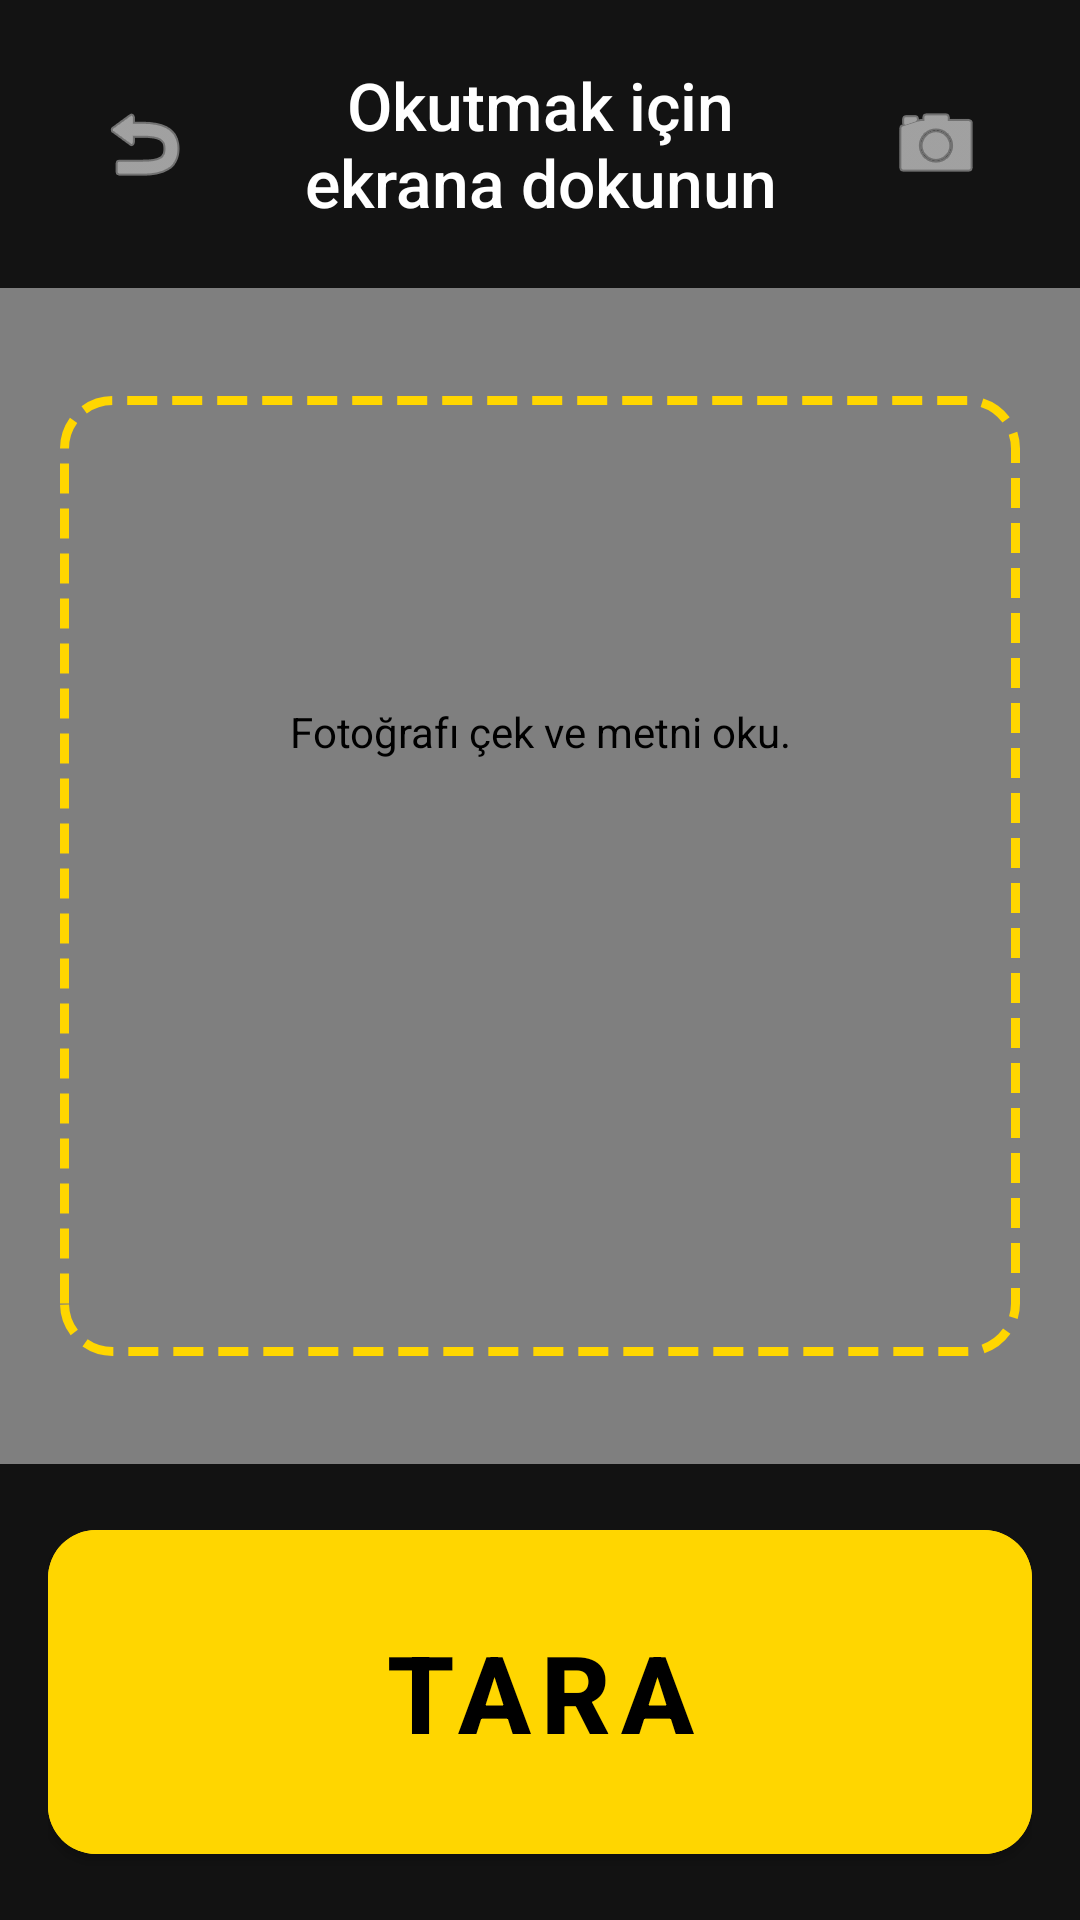

Named icons in this screenshot (1080x1920) and their centers, (x=x, y=y):
Geri dön: (x=145, y=144)
